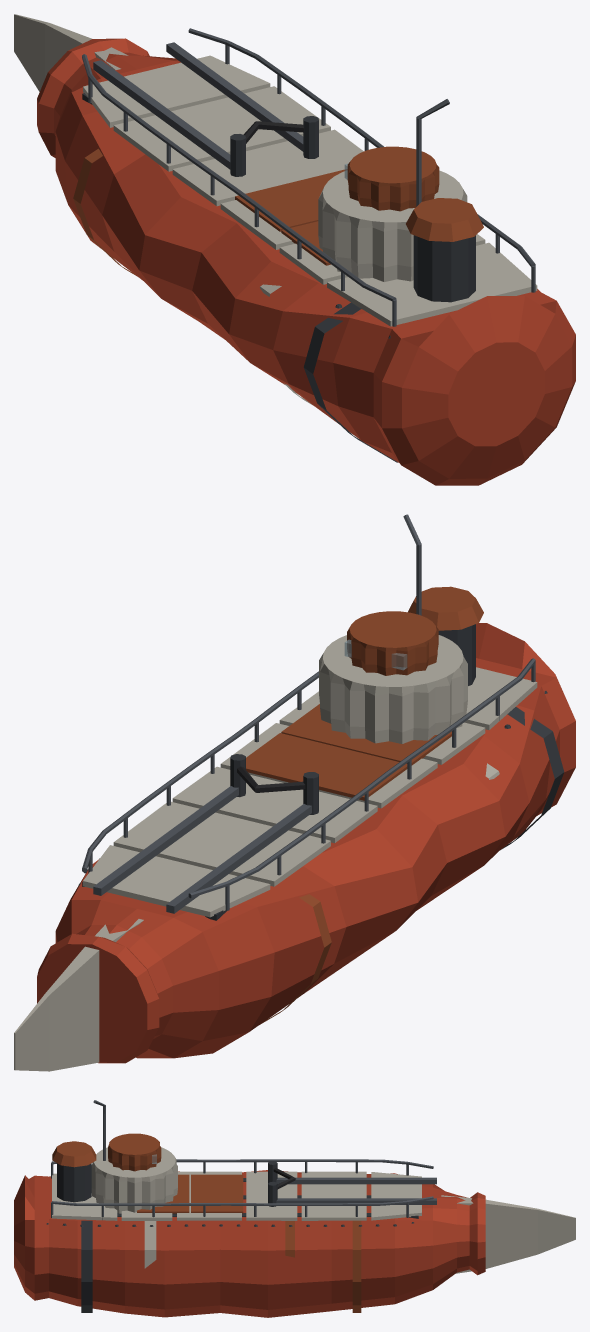
The model's file is hauler_combine.glb.
The picture shows the model from 3 angles, top to bottom: view 1: azimuth 30°, elevation 25°; view 2: azimuth 150°, elevation 25°; view 3: azimuth 270°, elevation 25°; orthographic projection. The views are drawn at different scales.
Parts seen in each view (by area): view 1: hauler_combine_body; view 2: hauler_combine_body; view 3: hauler_combine_body.
Boxes of the visible parts, x1,y1,x2,y2 form: hauler_combine_body: (14,14,575,485); hauler_combine_body: (14,514,575,1071); hauler_combine_body: (14,1100,575,1317).
Bounding box in the file's own units: 10.63 × 14.48 × 35.4.
